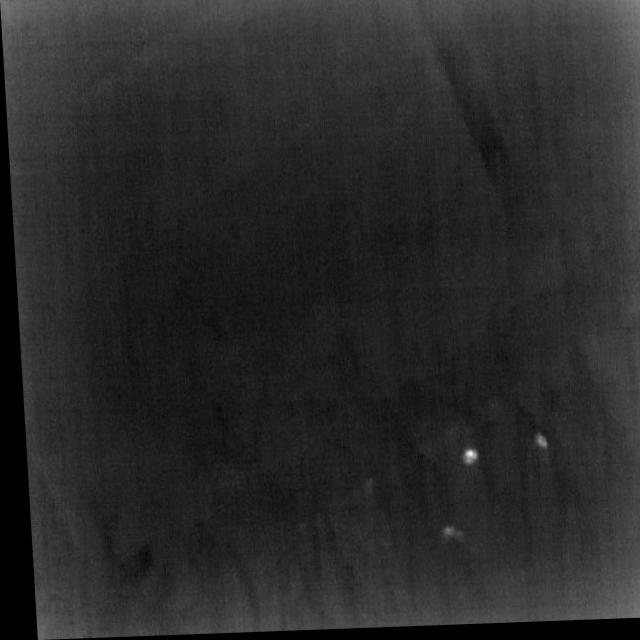deer: (433, 528, 458, 546), (456, 451, 473, 469), (529, 437, 543, 453)
